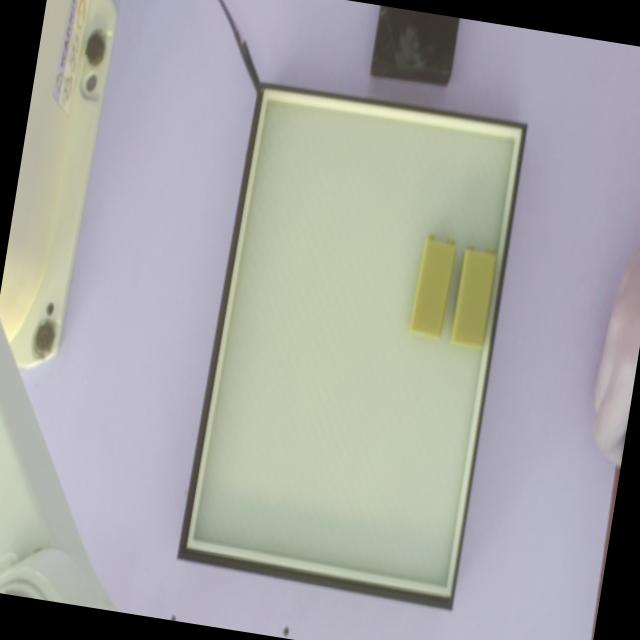bateria: (449, 243, 499, 348), (408, 237, 457, 341)
mesa: (177, 82, 528, 609)
